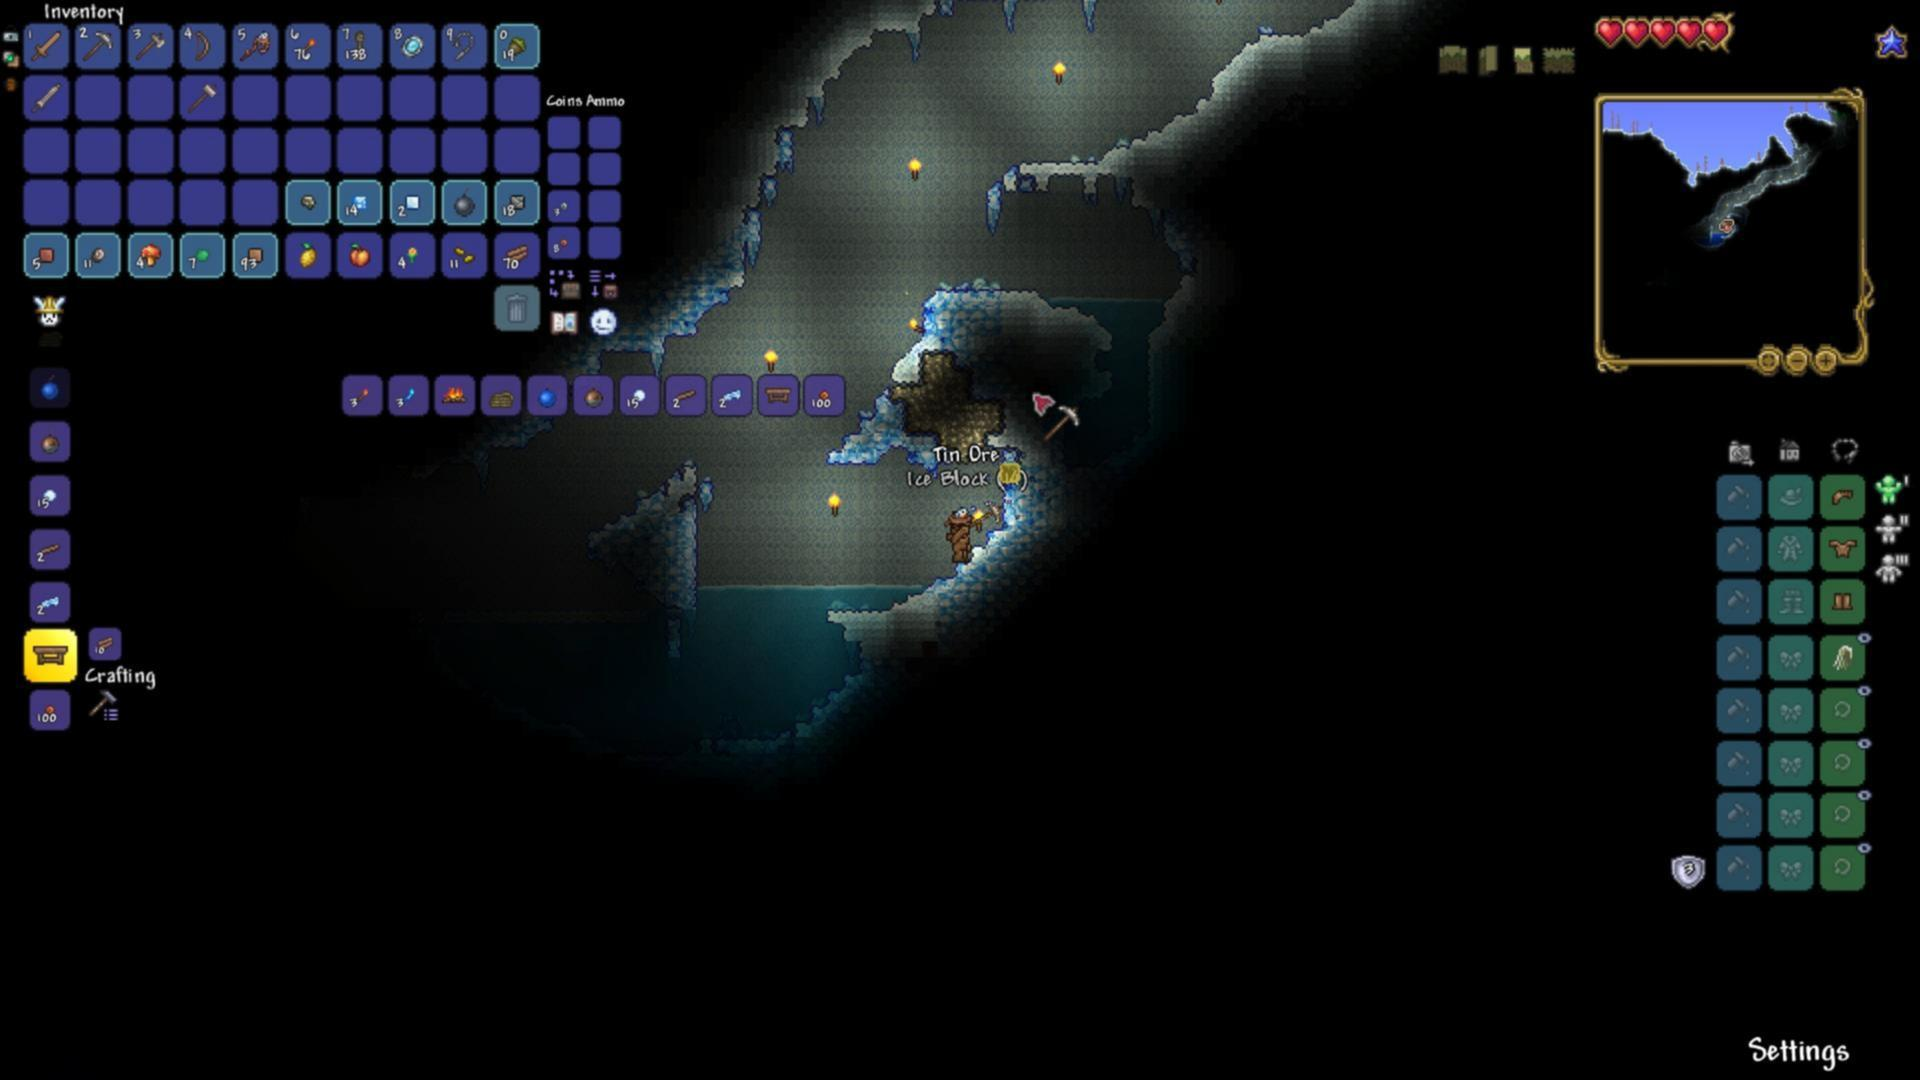gel: (191, 245, 214, 266)
pickaxe: (971, 501, 1006, 533)
